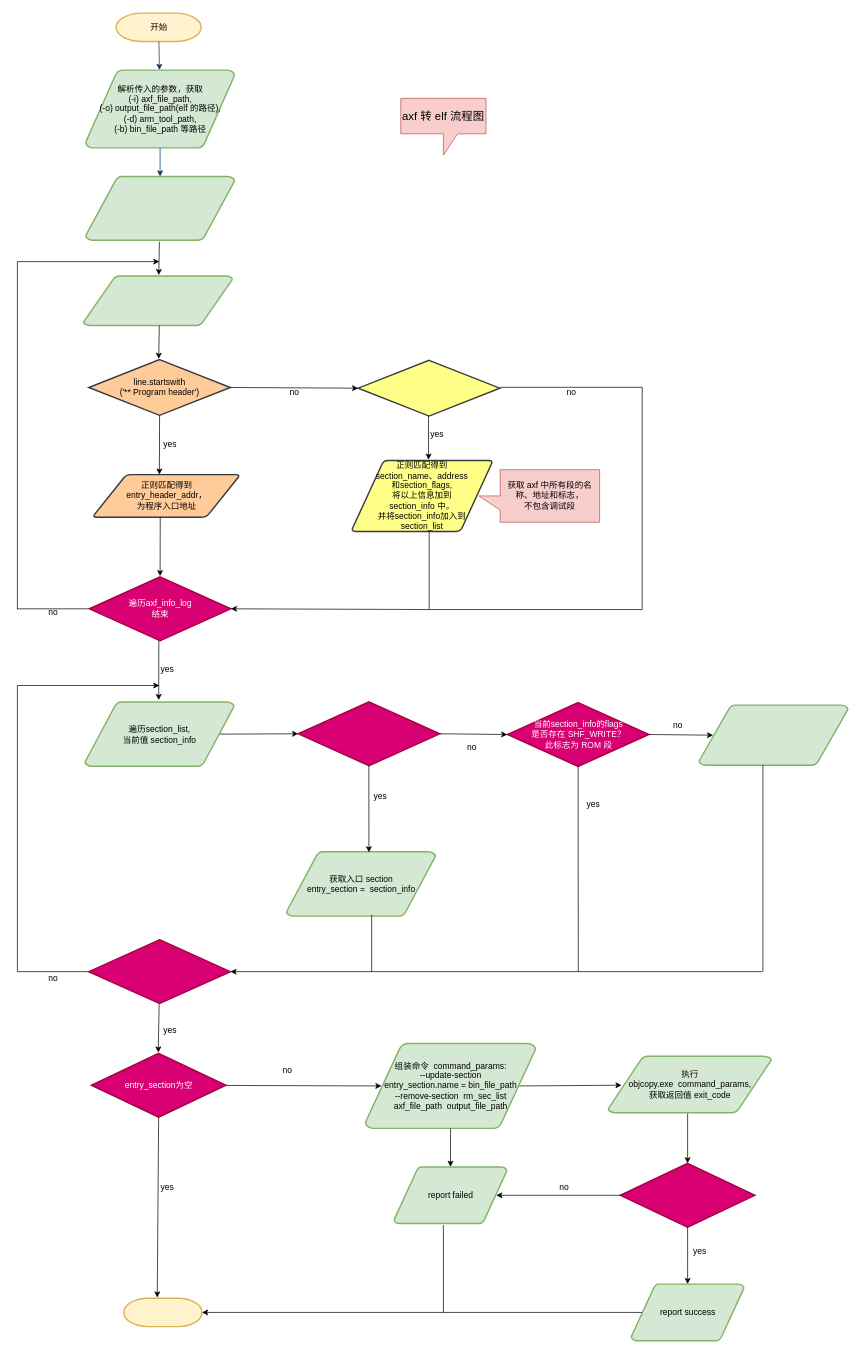
Image size: 861x1353. Some labels were removed from this diagram. The shapes that lost their labels are listed below. From the top down, each one's box as (x1, y1, x2, y2) in pixels, then its label:
(84, 175, 235, 241): 获取 fromelf.exe 路径，执行 formelf.exe -r axf_file_path, 获取执行的结果axf_info_log
(82, 275, 233, 326): 按行读取 axf_info_log， 当前行为 line
(357, 359, 500, 416): line.startswith ('** Section')
(297, 701, 440, 766): section_info的地址 = entry_header_addr
(698, 704, 848, 766): 将 section_info 的名称 加入 rm_sec_list， 要删除的所有 ROM 段
(88, 939, 231, 1004): 遍历section_list 结束
(619, 1162, 755, 1228): exit_code = 0
(123, 1297, 202, 1327): 结束
